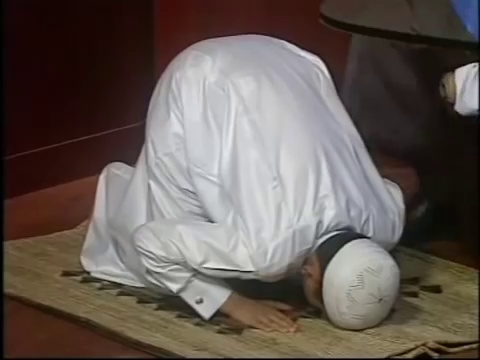sujud: (78, 32, 406, 333)
